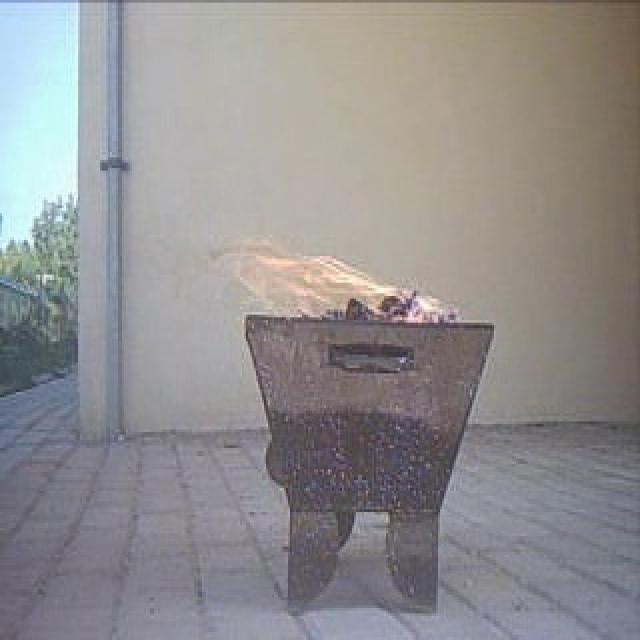Fire: (227, 222, 457, 350)
